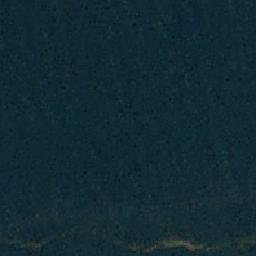debris: (158, 234, 203, 249), (11, 238, 50, 249), (232, 234, 253, 249), (126, 240, 159, 248)
